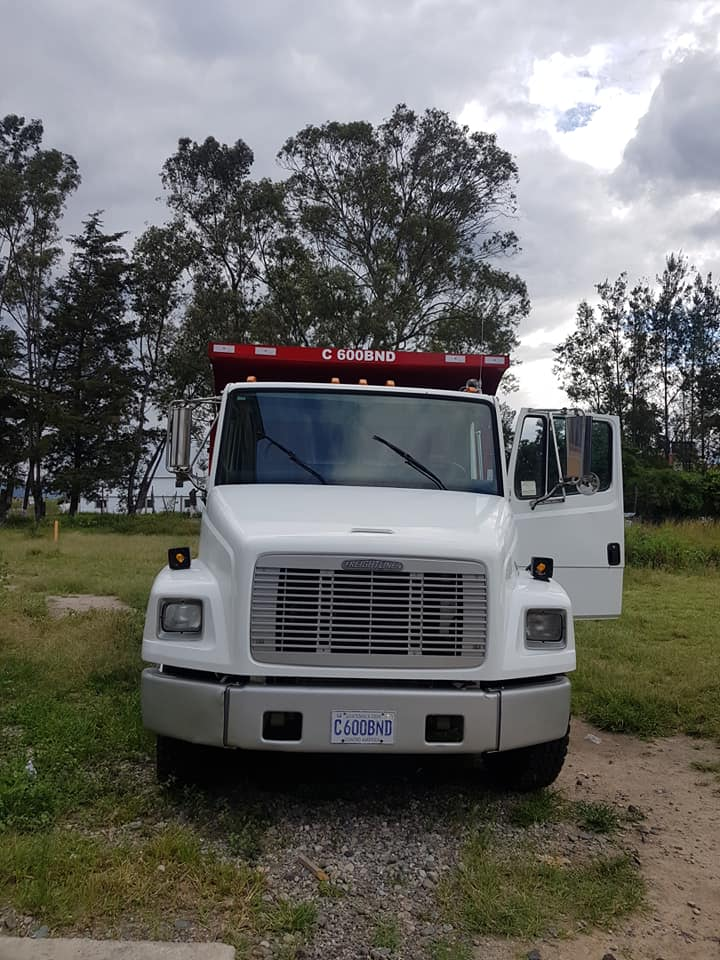camion: (133, 322, 634, 803)
